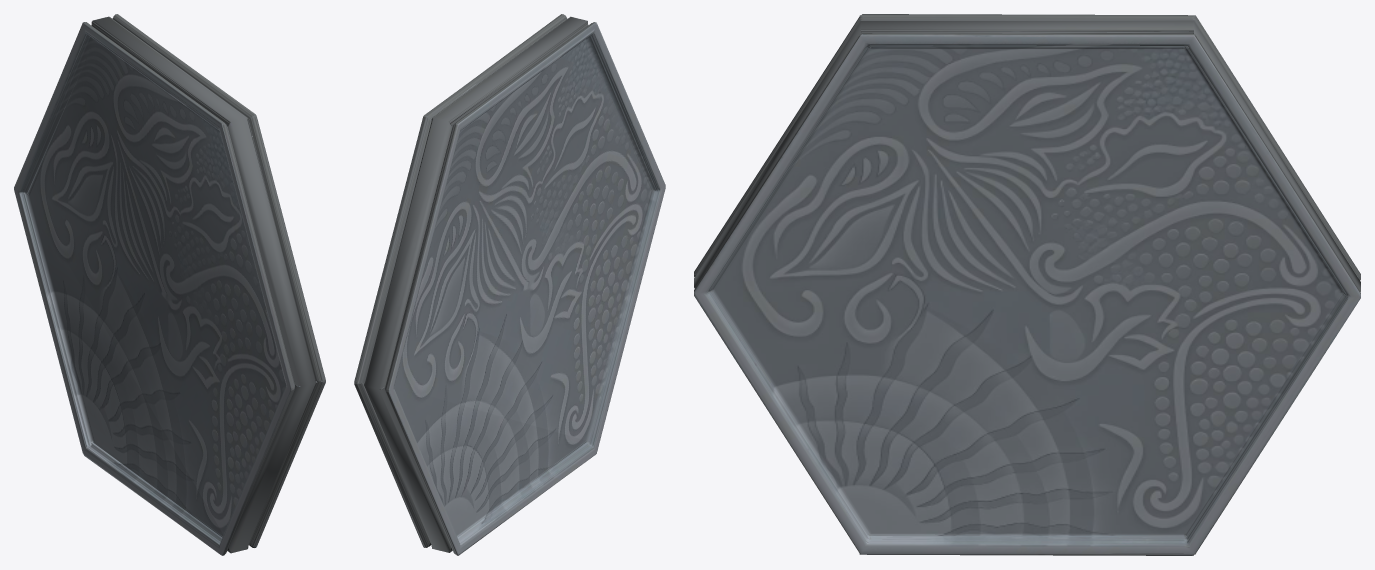
The model's file is baldosa.glb.
3 views of the same model, side by side, from view 1: azimuth 30°, elevation 25°; view 2: azimuth 150°, elevation 25°; view 3: azimuth 270°, elevation 25° (orthographic). The views are drawn at different scales.
Visible parts, largest first — view 1: tripo_node_c824c4b4-d688-4195-80fa-aabed553d034; view 2: tripo_node_c824c4b4-d688-4195-80fa-aabed553d034; view 3: tripo_node_c824c4b4-d688-4195-80fa-aabed553d034.
Boxes of the visible parts, bbox=[...] form: tripo_node_c824c4b4-d688-4195-80fa-aabed553d034: bbox=[14, 14, 325, 555]; tripo_node_c824c4b4-d688-4195-80fa-aabed553d034: bbox=[354, 14, 665, 555]; tripo_node_c824c4b4-d688-4195-80fa-aabed553d034: bbox=[694, 14, 1360, 555].
Size of the model in its own units: 0.0731 by 0.8613 by 0.998.
Materials: 1 (1 with a texture image).
